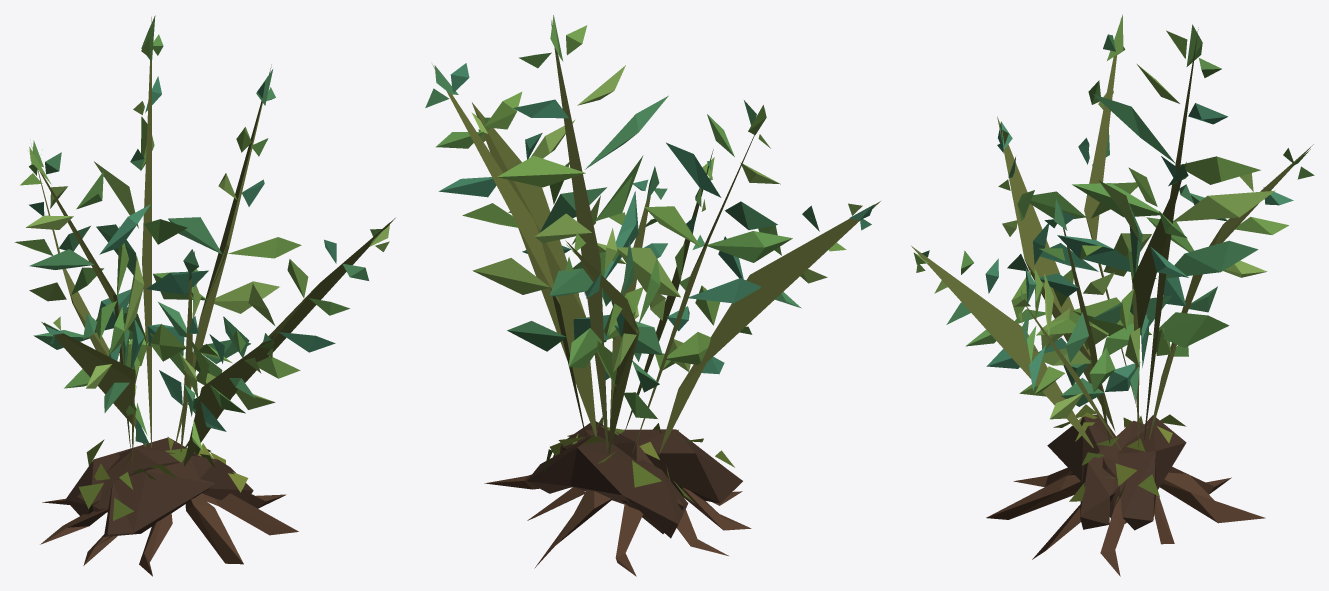
File: sensitive-fern.glb
The picture shows the model from 3 angles, left to right: view 1: azimuth 30°, elevation 25°; view 2: azimuth 150°, elevation 25°; view 3: azimuth 270°, elevation 25°; orthographic projection. The views are drawn at different scales.
Parts seen in each view (by area): view 1: sensitive-fern; view 2: sensitive-fern; view 3: sensitive-fern.
Part boxes in pixels (x1,y1,x2,y2): sensitive-fern: (14,15,395,576); sensitive-fern: (425,15,880,576); sensitive-fern: (911,14,1314,576).
Bounding box in the file's own units: 0.7876 × 0.9893 × 0.7186.
